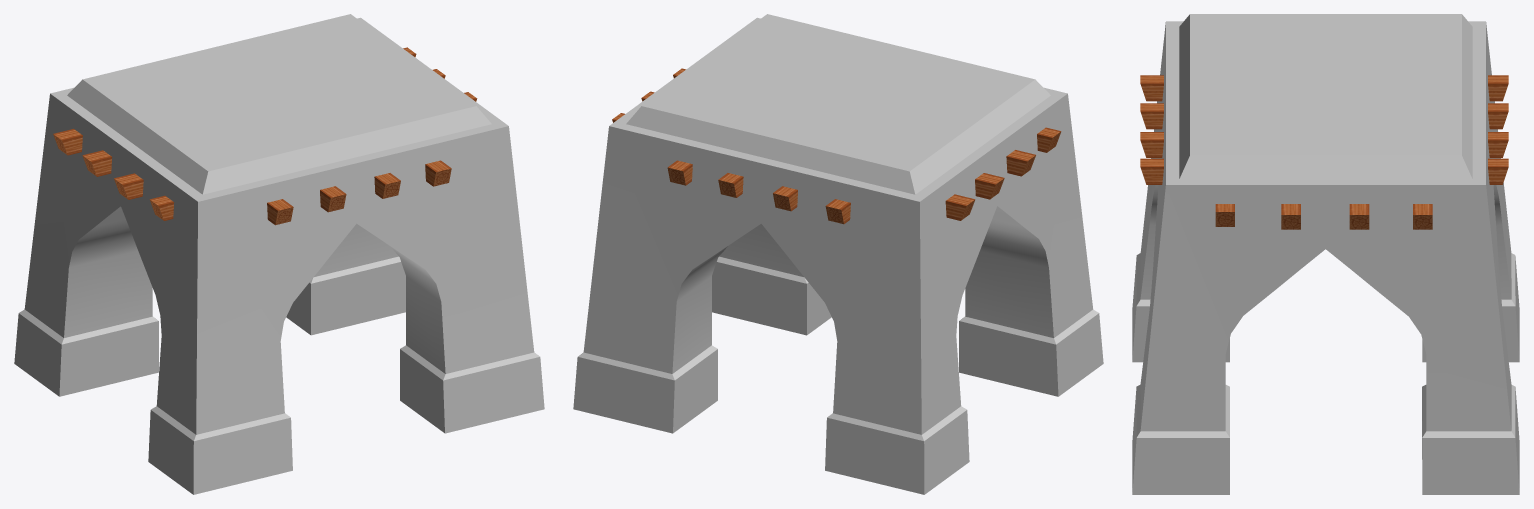
File: Arena_Building_01.fbx
The picture shows the model from 3 angles, left to right: view 1: azimuth 30°, elevation 25°; view 2: azimuth 150°, elevation 25°; view 3: azimuth 270°, elevation 25°; orthographic projection. The views are drawn at different scales.
Visible parts, largest first — view 1: Cube.087; view 2: Cube.087; view 3: Cube.087.
Part boxes in pixels (x1,y1,x2,y2): Cube.087: (14, 14, 544, 494); Cube.087: (573, 14, 1103, 494); Cube.087: (1132, 14, 1519, 494).
Bounding box in the file's own units: 6.43 × 5.1 × 5.63.
